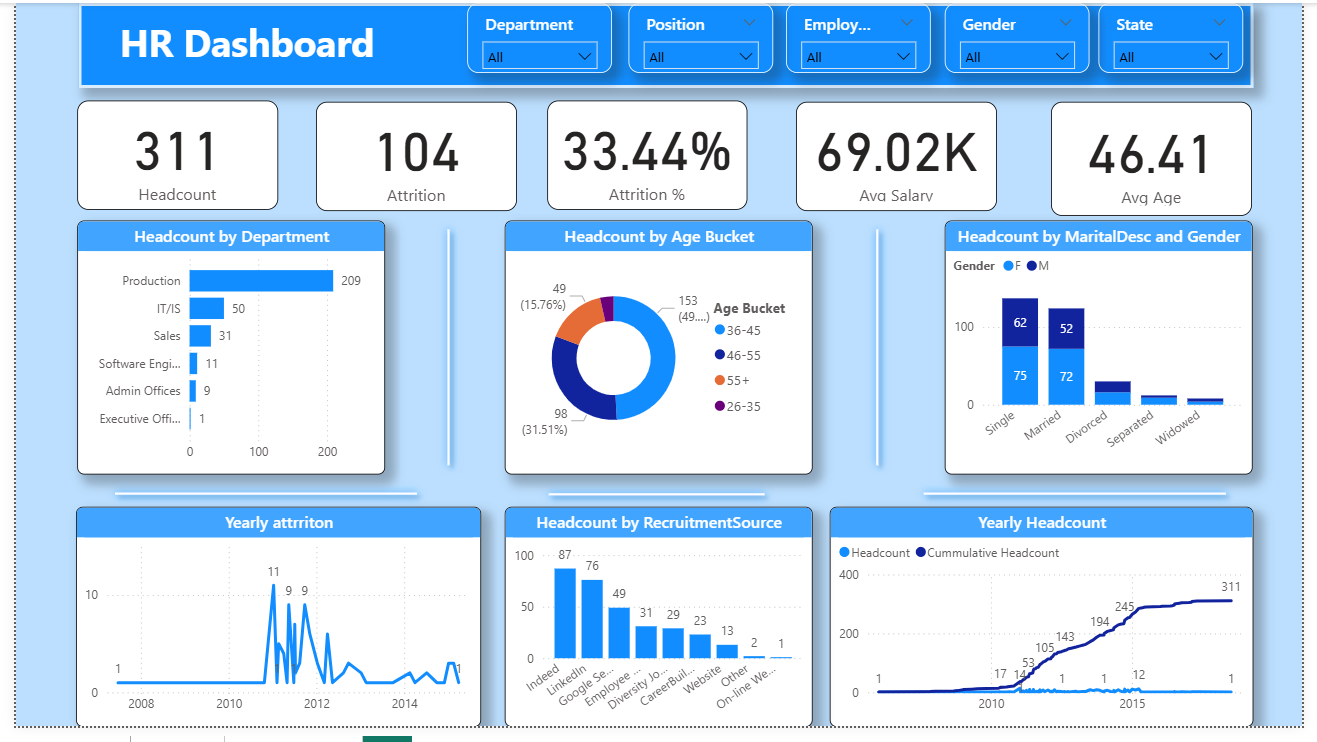

This screenshot's page, from the dashboard's own definition file:
{"tool":"powerbi","page":{"name":"Page 1","canvas":[1280,720],"ordinal":0},"visuals":[{"type":"shape","box":[62.2,0,1169.3,84.6],"z":0},{"type":"card","fields":{"Values":["Measure.Headcount"]},"box":[61,97,200,109],"z":1000},{"type":"card","fields":{"Values":["Measure.Attrition"]},"box":[298.6,98.3,200.3,109],"z":2000},{"type":"card","fields":{"Values":["Measure.Attrition %"]},"box":[528.7,97,199,109],"z":3000},{"type":"card","fields":{"Values":["Measure.Avg Salary"]},"box":[776.2,98.3,200.3,109],"z":4000},{"type":"card","fields":{"Values":["Measure.Avg Age"]},"box":[1030,98.3,200.3,113.2],"z":5000},{"type":"clusteredBarChart","fields":{"Category":["HRDataset_v14.Department"],"Y":["Measure.Headcount"]},"box":[61,216.4,306,252.5],"z":6000},{"type":"donutChart","fields":{"Category":["HRDataset_v14.Age Bucket"],"Y":["Measure.Headcount"]},"box":[486.4,216.4,306,252.5],"z":7000},{"type":"columnChart","fields":{"Category":["HRDataset_v14.MaritalDesc"],"Y":["Measure.Headcount"],"Series":["HRDataset_v14.Gender"]},"box":[924.3,216.4,306,252.5],"z":8000},{"type":"lineChart","title":"Yearly Headcount","fields":{"Category":["HRDataset_v14.DateofHire"],"Y":["Measure.Headcount","Measure.Cummulative Headcount"]},"box":[809.8,501.3,421.7,218.9],"z":9000},{"type":"lineChart","title":"Yearly attrriton","fields":{"Y":["Measure.Attrition"],"Category":["HRDataset_v14.DateofHire"]},"box":[61,501.3,403,218.9],"z":10000},{"type":"columnChart","fields":{"Category":["HRDataset_v14.RecruitmentSource"],"Y":["Measure.Headcount"]},"box":[486.4,501.3,306,218.9],"z":11000},{"type":"slicer","fields":{"Values":["HRDataset_v14.Department"]},"box":[449.1,0,144.3,69.7],"z":12000},{"type":"slicer","fields":{"Values":["HRDataset_v14.Position"]},"box":[609.5,0,144.3,69.7],"z":13000},{"type":"slicer","fields":{"Values":["HRDataset_v14.EmploymentStatus"]},"box":[766.3,0,144.3,69.7],"z":14000},{"type":"slicer","fields":{"Values":["HRDataset_v14.Gender"]},"box":[924.3,0,144.3,69.7],"z":15000},{"type":"slicer","fields":{"Values":["HRDataset_v14.State"]},"box":[1077.3,0,144.3,69.7],"z":16000},{"type":"shape","box":[411.8,216.4,37.3,252.5],"z":17000},{"type":"shape","box":[838.4,216.4,37.3,252.5],"z":18000},{"type":"textbox","box":[98.3,8.7,301,65.9],"z":19000},{"type":"shape","box":[80.9,469,318.5,38.6],"z":20000},{"type":"shape","box":[894.4,469,318.5,38.6],"z":21000},{"type":"shape","box":[521.2,434.1,232.6,109.5],"z":21001}]}

Visuals, with their boxes in screenshot pixels (x1, y1, x2, y2), scaled from the page's 1280x720 canvas onto the 1317x742 screenshot:
shape: l=64, t=0, r=1267, b=87
card - Measure.Headcount: l=63, t=100, r=269, b=212
card - Measure.Attrition: l=307, t=101, r=513, b=214
card - Measure.Attrition %: l=544, t=100, r=749, b=212
card - Measure.Avg Salary: l=799, t=101, r=1005, b=214
card - Measure.Avg Age: l=1060, t=101, r=1266, b=218
clusteredBarChart - HRDataset_v14.Department x Measure.Headcount: l=63, t=223, r=378, b=483
donutChart - HRDataset_v14.Age Bucket x Measure.Headcount: l=500, t=223, r=815, b=483
columnChart - HRDataset_v14.MaritalDesc x Measure.Headcount: l=951, t=223, r=1266, b=483
"Yearly Headcount" lineChart: l=833, t=517, r=1267, b=741
"Yearly attrriton" lineChart: l=63, t=517, r=477, b=741
columnChart - HRDataset_v14.RecruitmentSource x Measure.Headcount: l=500, t=517, r=815, b=741
slicer - HRDataset_v14.Department: l=462, t=0, r=611, b=72
slicer - HRDataset_v14.Position: l=627, t=0, r=776, b=72
slicer - HRDataset_v14.EmploymentStatus: l=788, t=0, r=937, b=72
slicer - HRDataset_v14.Gender: l=951, t=0, r=1099, b=72
slicer - HRDataset_v14.State: l=1108, t=0, r=1257, b=72
shape: l=424, t=223, r=462, b=483
shape: l=863, t=223, r=901, b=483
textbox: l=101, t=9, r=411, b=77
shape: l=83, t=483, r=411, b=523
shape: l=920, t=483, r=1248, b=523
shape: l=536, t=447, r=776, b=560
